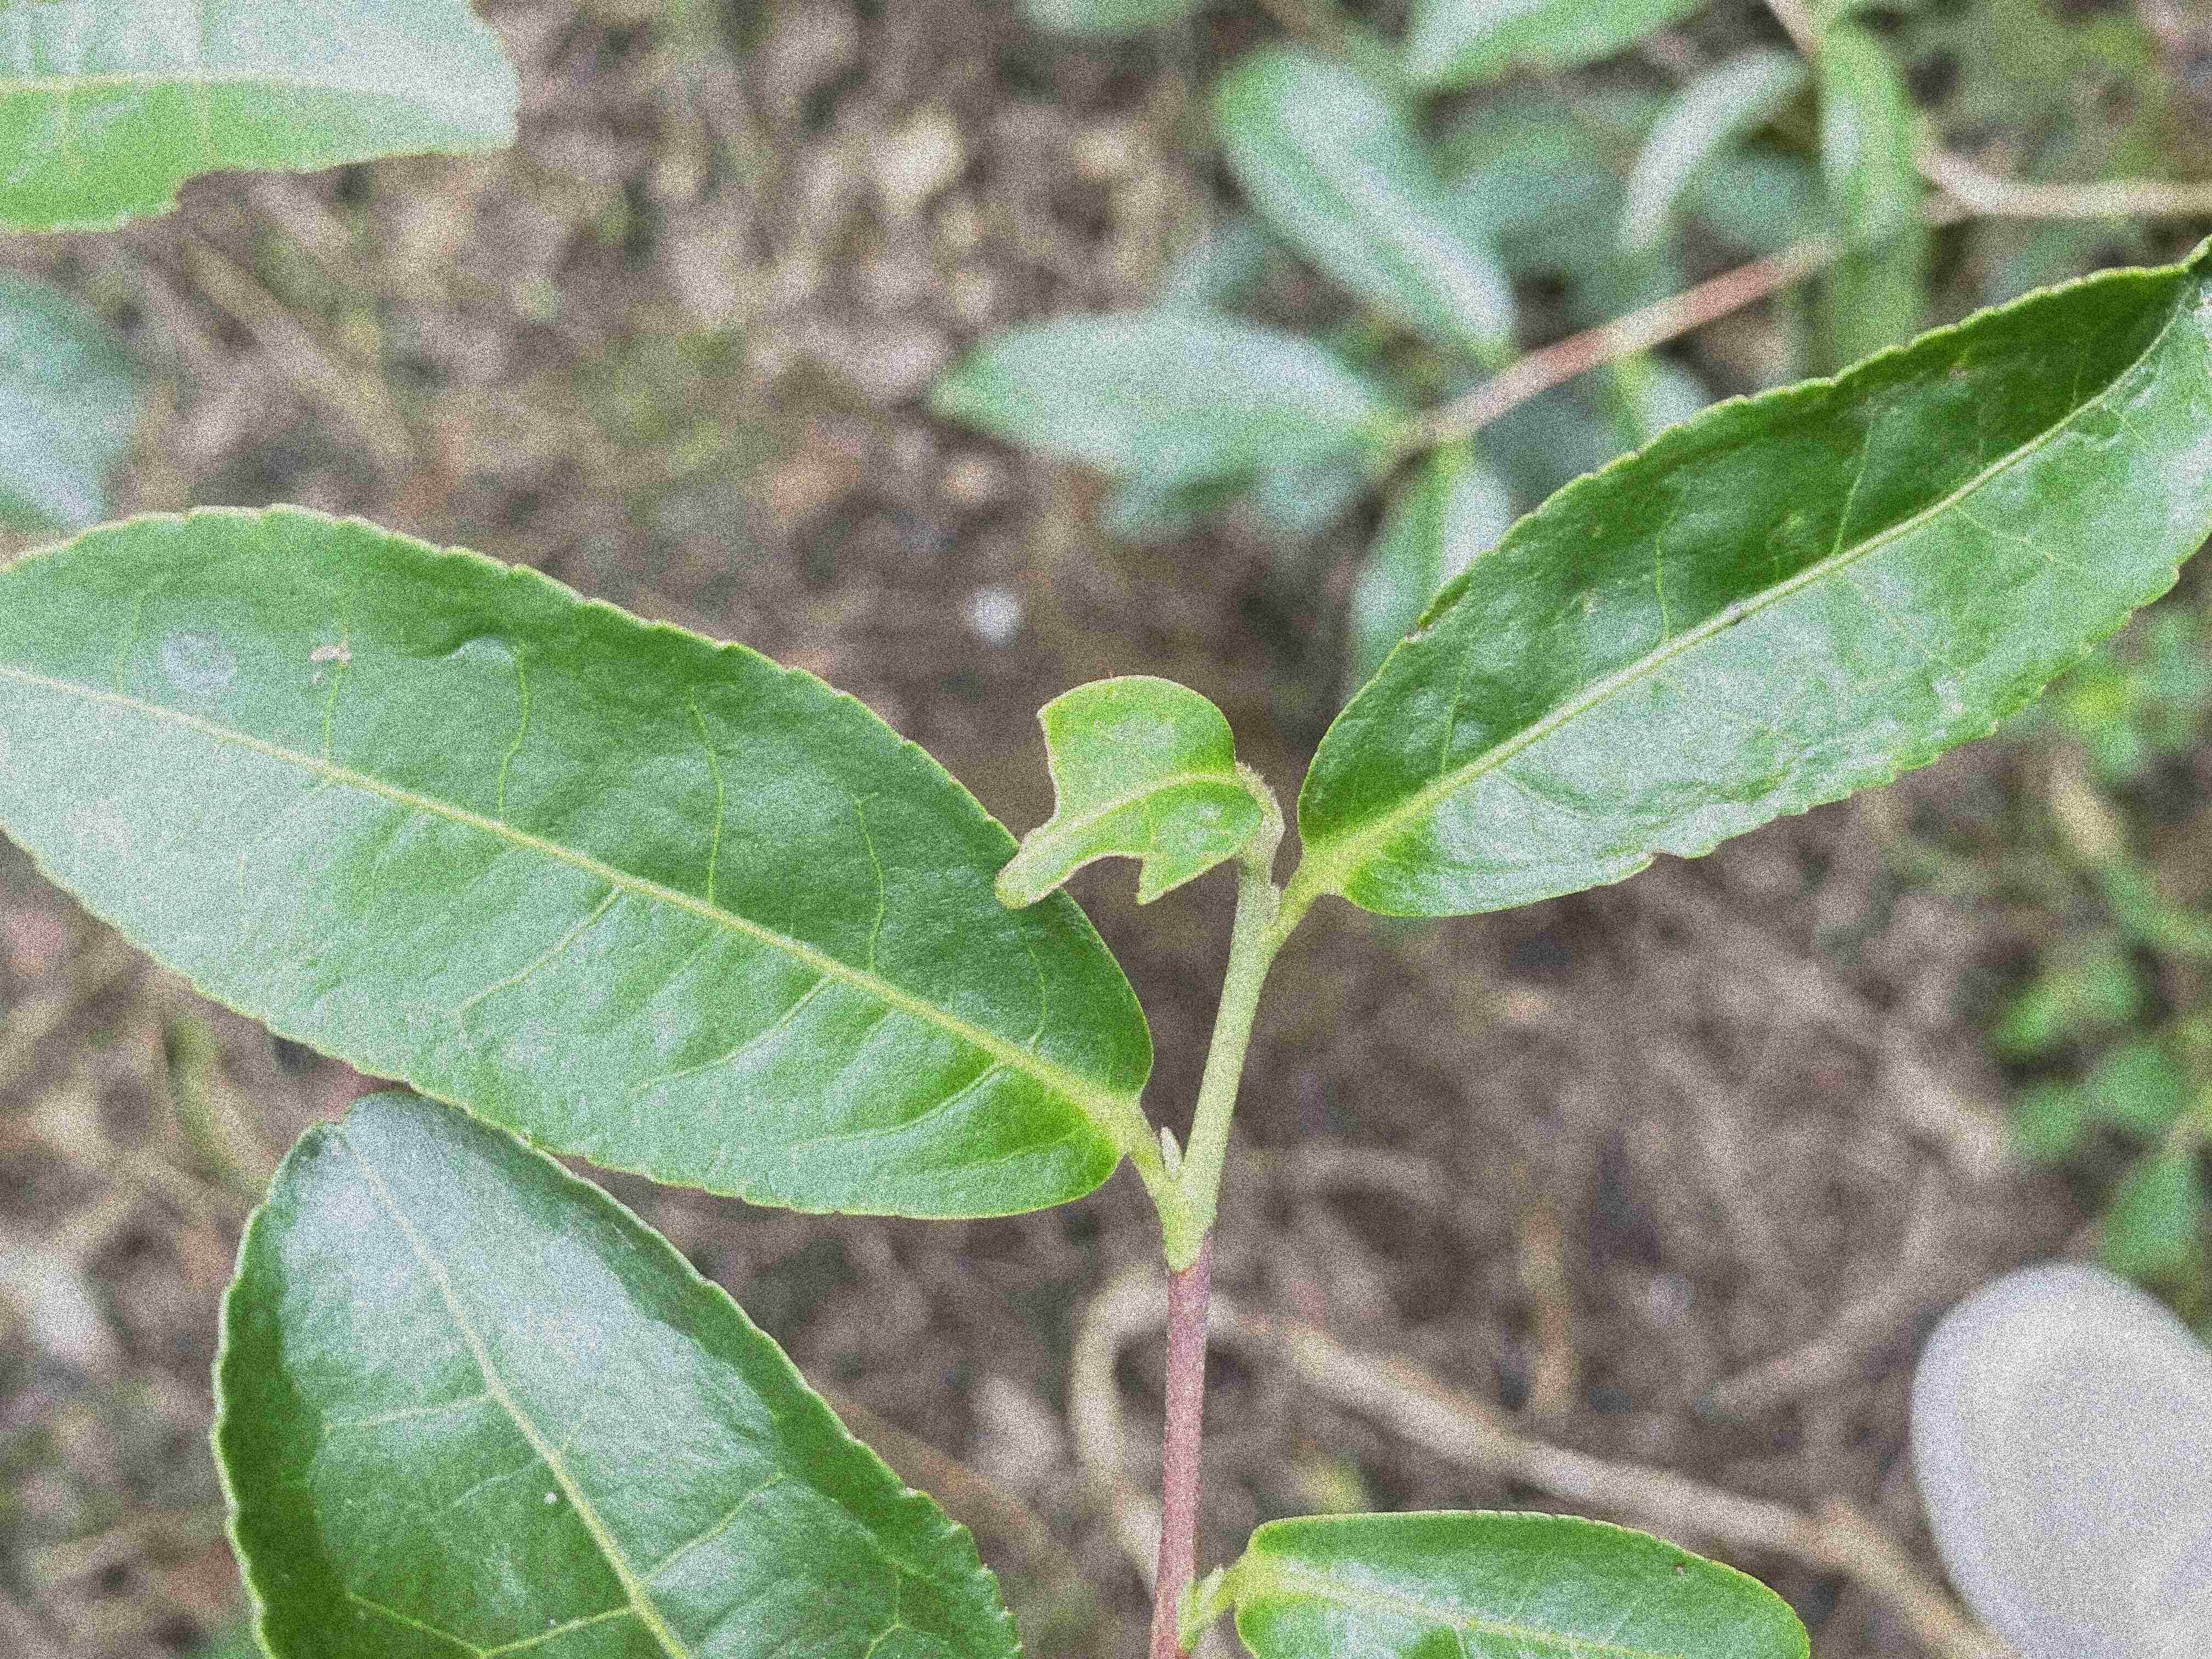chihuo_high: (993, 669, 1263, 911)
healthy: (1296, 244, 2212, 918), (223, 1091, 1029, 1657)
tanju_low: (7, 505, 1158, 1220), (1231, 1509, 1813, 1657)
